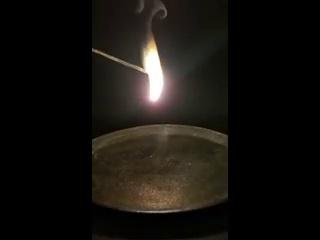Fire: (142, 16, 166, 104)
